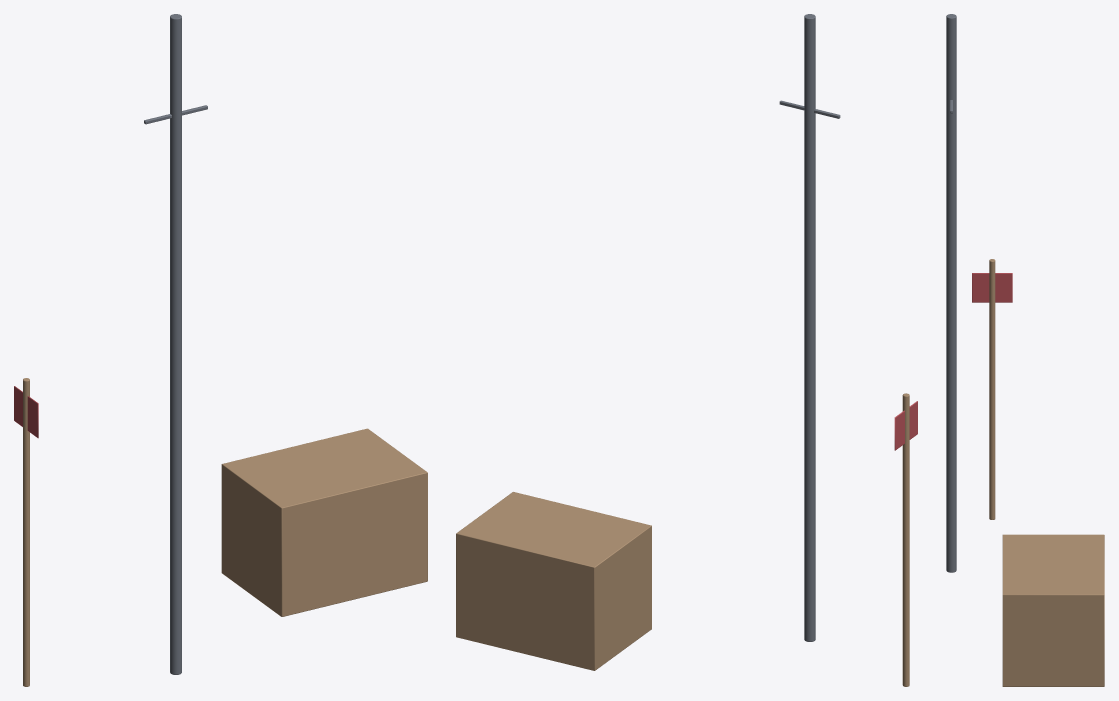
File: SM_VAN_OUT_ListeningPost.fbx
3 renders of one model, left to right at view 1: azimuth 30°, elevation 25°; view 2: azimuth 150°, elevation 25°; view 3: azimuth 270°, elevation 25°, orthographic. The views are drawn at different scales.
Parts seen in each view (by area): view 1: SM_VAN_OUT_ListeningPost; view 2: SM_VAN_OUT_ListeningPost; view 3: SM_VAN_OUT_ListeningPost.
Part boxes in pixels (x1=…): SM_VAN_OUT_ListeningPost: x1=14, y1=14, x2=427, y2=686; SM_VAN_OUT_ListeningPost: x1=456, y1=14, x2=917, y2=686; SM_VAN_OUT_ListeningPost: x1=946, y1=14, x2=1104, y2=686.
Size of what is drawn, in the model's own units: 1.97 by 3 by 0.775.
